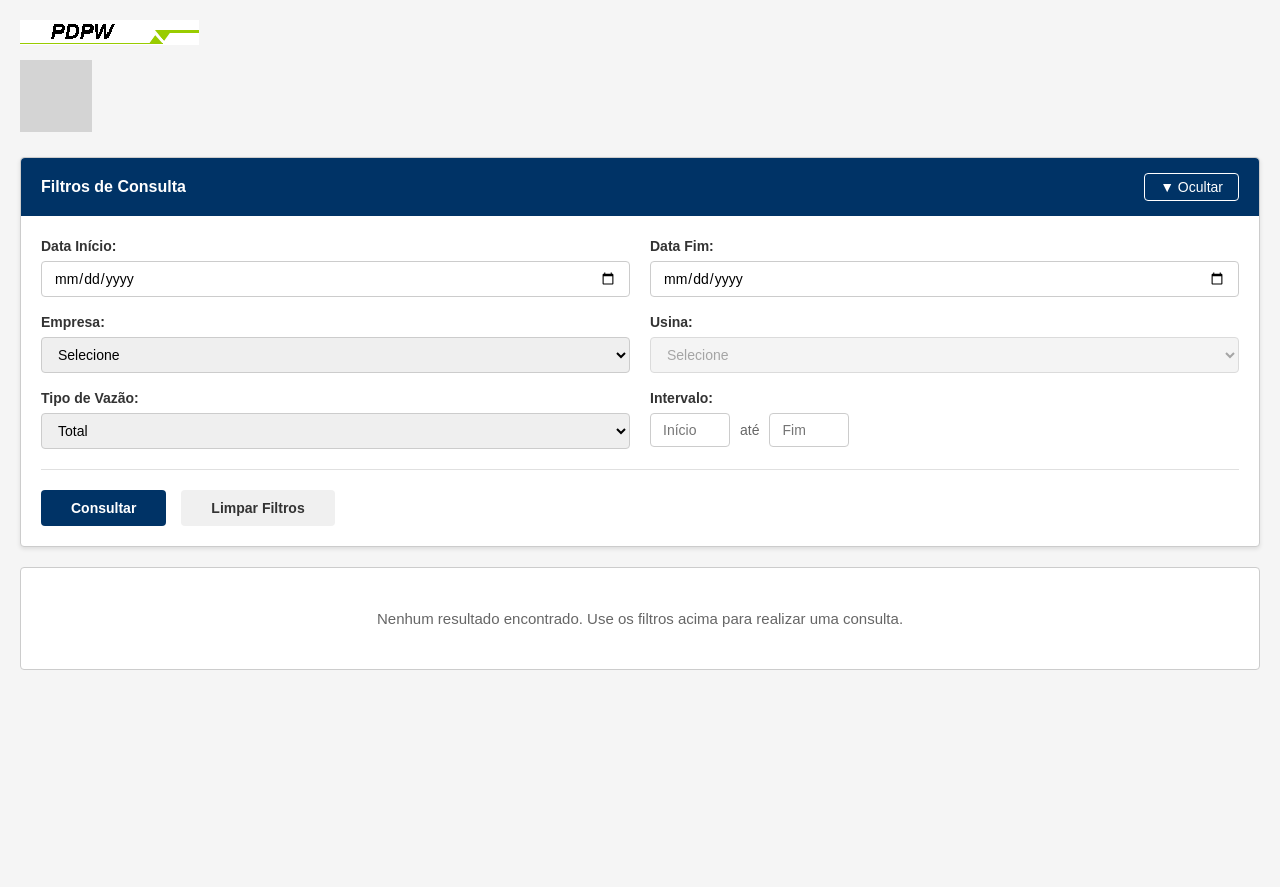
Scenario: FlowQuery Component › Consulta › deve exibir resultados após consulta
The width and height of the screenshot is (1280, 887).
Click the button "Consultar" at (104, 508), box [41,490,166,526]
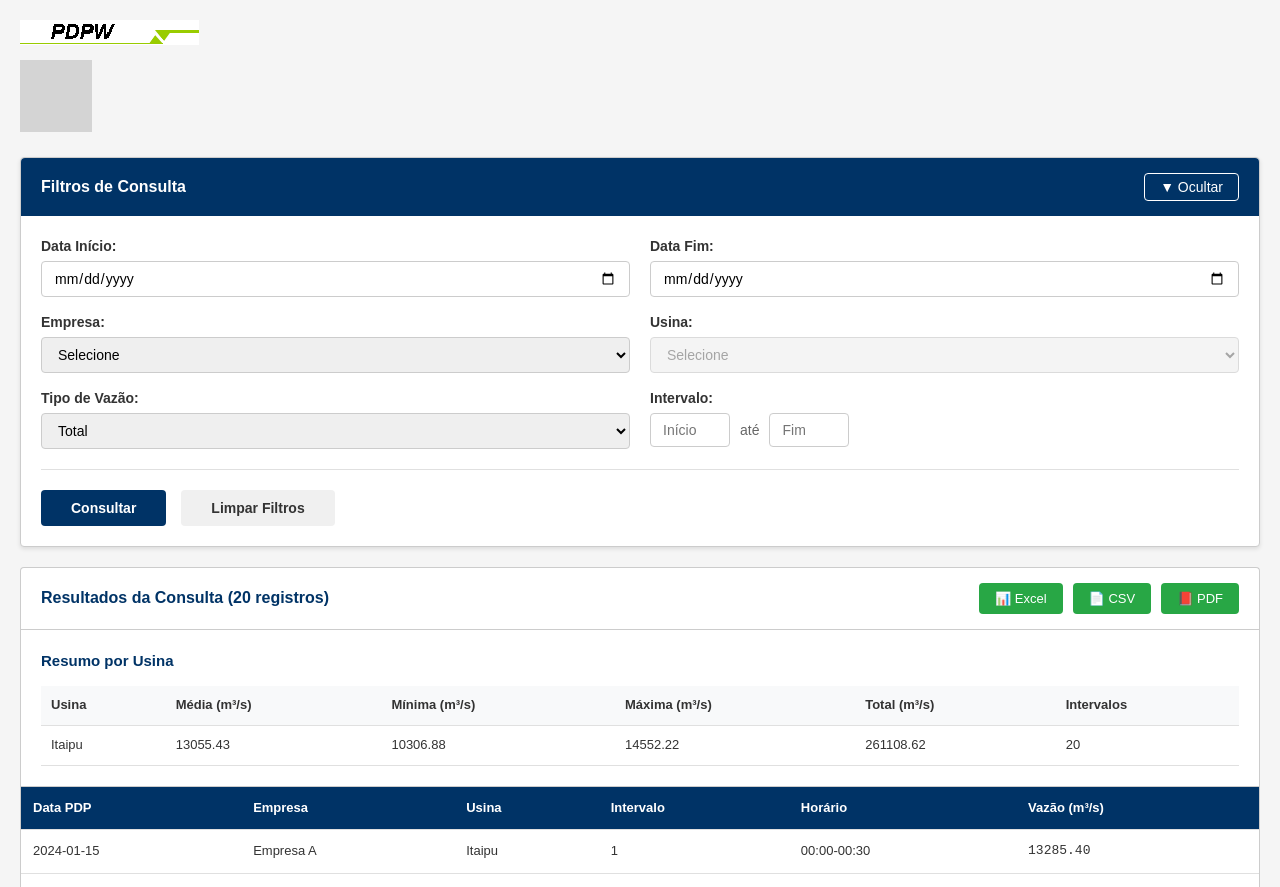
Result: the heading "Resultados da Consulta (20 registros)" is shown at [41,587,329,610]
